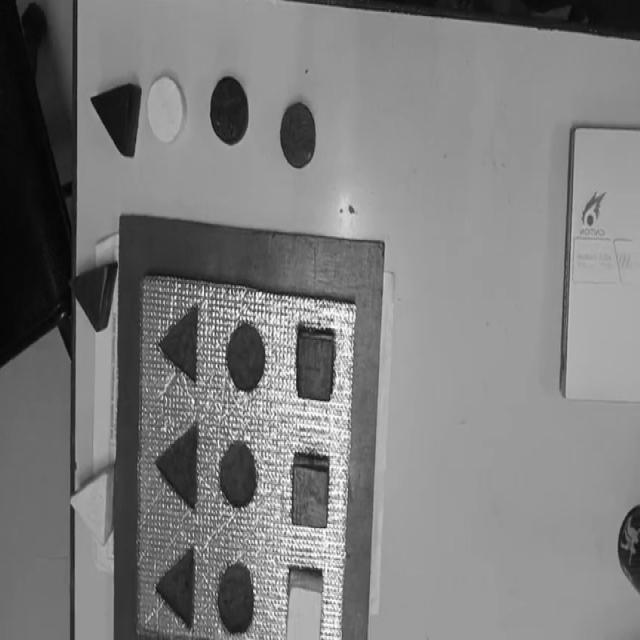bcircle: (209, 75, 249, 146)
bcube: (296, 329, 336, 403)
btriangle: (89, 83, 140, 160)
mtcircle: (225, 320, 266, 392), (217, 562, 255, 634), (219, 438, 258, 508)
mttriangle: (154, 422, 199, 510), (154, 546, 195, 630), (159, 305, 200, 384)
rcircle: (280, 102, 316, 169)
rcube: (292, 453, 330, 530)
rtriangle: (70, 261, 116, 333)
wb: (135, 270, 356, 640)
ycircle: (146, 74, 185, 146)
ycube: (285, 566, 324, 640)
ytriangle: (68, 465, 115, 546)
